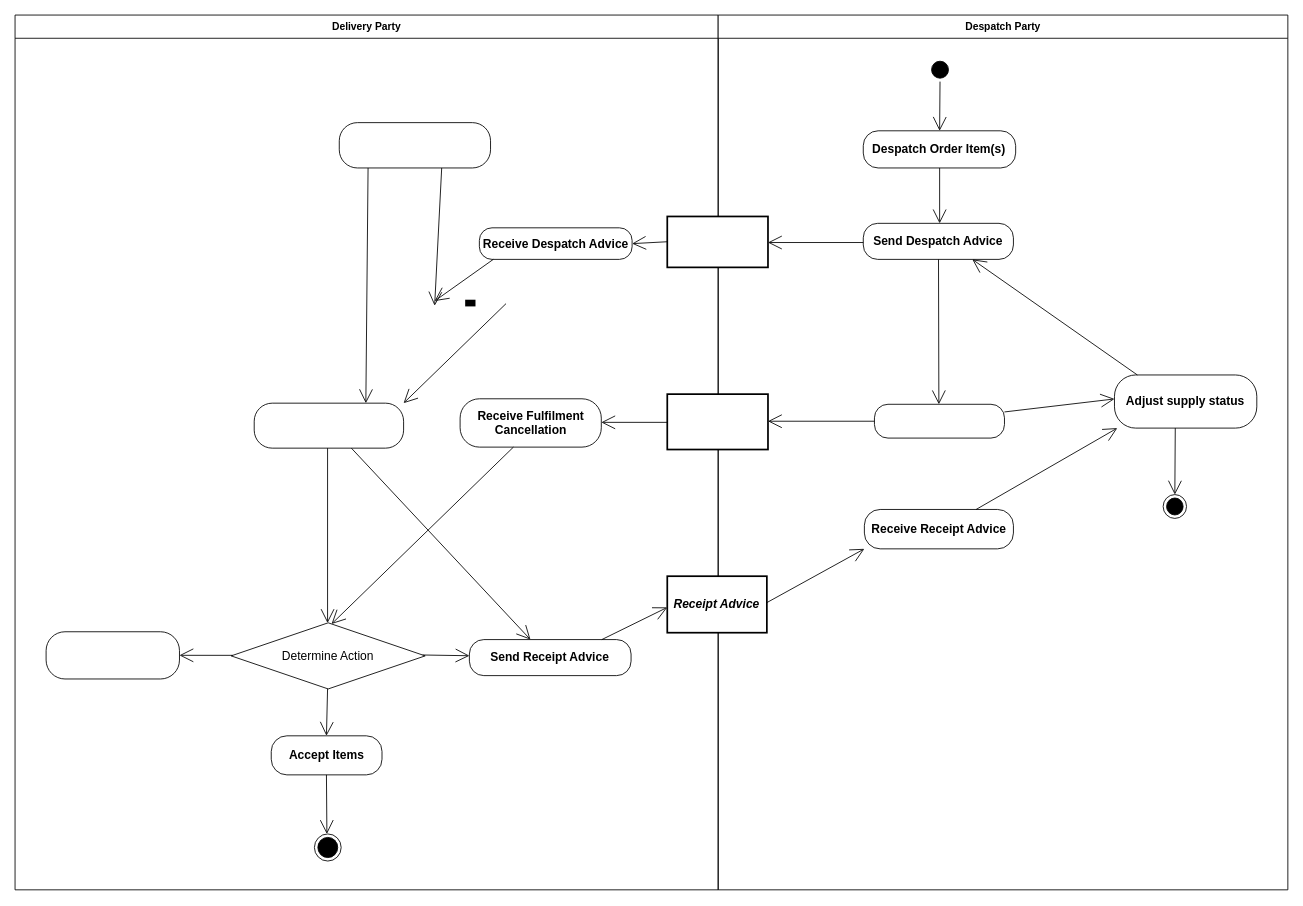
Some shapes in this 1303 by 906 pixel diagram are drawn without their labels. The centre of each missing label's shape, as x and y in pixels:
"Adjust Order" belongs at (x=112, y=655).
"Cancel Despatch" belongs at (x=939, y=420).
"Check status of Item(s)" belongs at (x=328, y=425).
"Despatch Advice" belongs at (x=717, y=241).
"Fulfilment Cancellation" belongs at (x=717, y=421).
"Receive Order Item(s)" belongs at (x=414, y=145).
